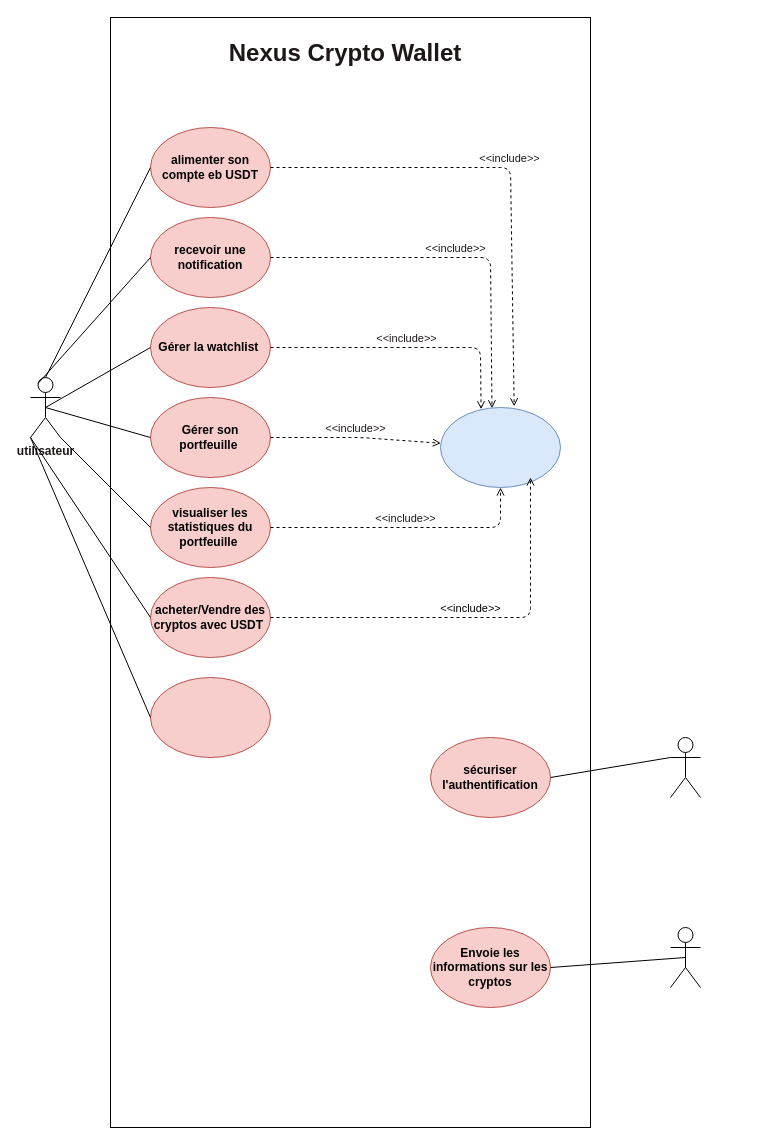
The diagram is 771 pixels wide and 1145 high, and some of its shapes have lost their labels. Each missing label, with the centre of its shape:
"API des Cryptomonaies" belongs at (685,957).
"s'authentifier" belongs at (500,447).
"s'inscrire" belongs at (210,717).
"service Authentification" belongs at (685,767).
